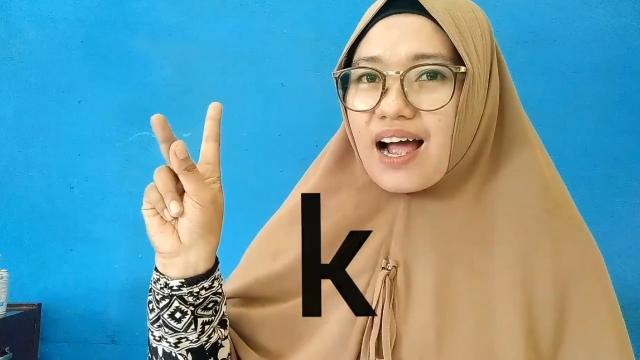K: (134, 102, 230, 272)
